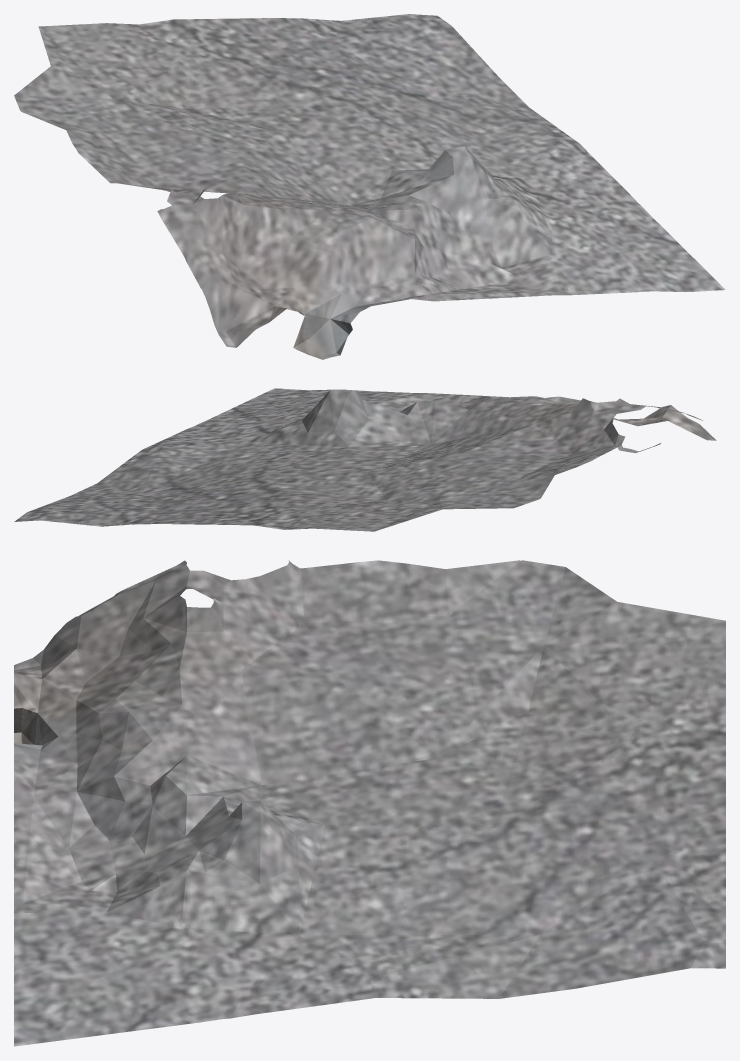
3 renders of one model, top to bottom at view 1: azimuth 30°, elevation 25°; view 2: azimuth 150°, elevation 25°; view 3: azimuth 270°, elevation 25°, orthographic. The views are drawn at different scales.
Size of the model in its own units: 0.8374 by 0.2404 by 0.8374.
3 materials, 3 textured.
